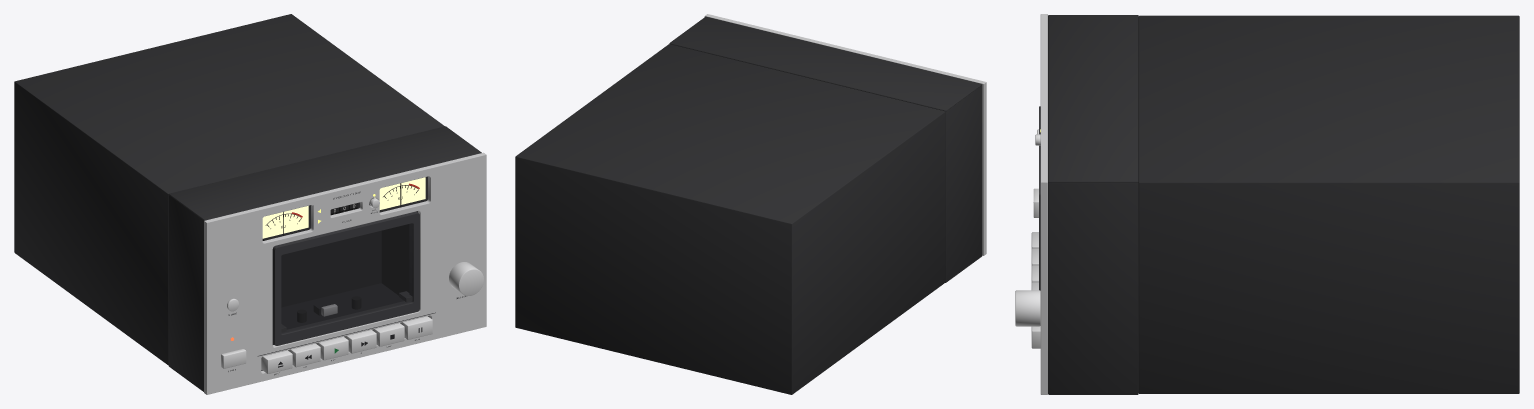
File: tape_deck.glb
3 views of the same model, side by side, from view 1: azimuth 30°, elevation 25°; view 2: azimuth 150°, elevation 25°; view 3: azimuth 270°, elevation 25° (orthographic). The views are drawn at different scales.
Visible parts, largest first — view 1: deck_case, deck_fascia, door_glass, deck_wells, door, deck_furniture, meter_face_l, meter_face_r, key_eject, key_pause, key_play, key_ff (+2 smaller); view 2: deck_case, deck_fascia; view 3: deck_case, deck_fascia, deck_furniture.
Part boxes in pixels (x1,y1,x2,y2): deck_case: (14,14,481,391); deck_fascia: (204,152,486,394); door_glass: (281,223,412,333); deck_wells: (262,198,412,344); door: (272,211,419,345); deck_furniture: (221,262,483,368); meter_face_l: (262,206,308,238); meter_face_r: (374,177,425,209); key_eject: (261,350,292,373); key_pause: (400,316,432,339); key_play: (316,336,348,360); key_ff: (344,330,376,353); deck_case: (515,16,982,394); deck_fascia: (704,14,986,255); deck_case: (1048,15,1519,394); deck_fascia: (1040,14,1047,394); deck_furniture: (1015,129,1040,326).
Size of the model in its own units: 0.22 by 0.136 by 0.278.
